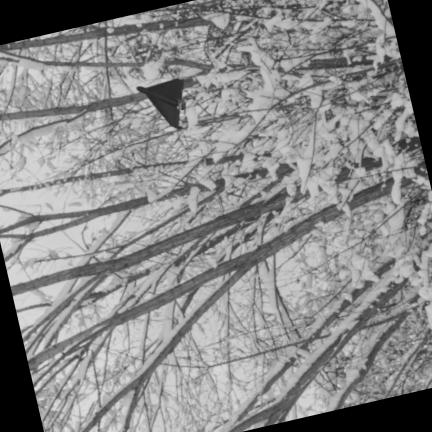Shahed: (136, 77, 189, 129)
